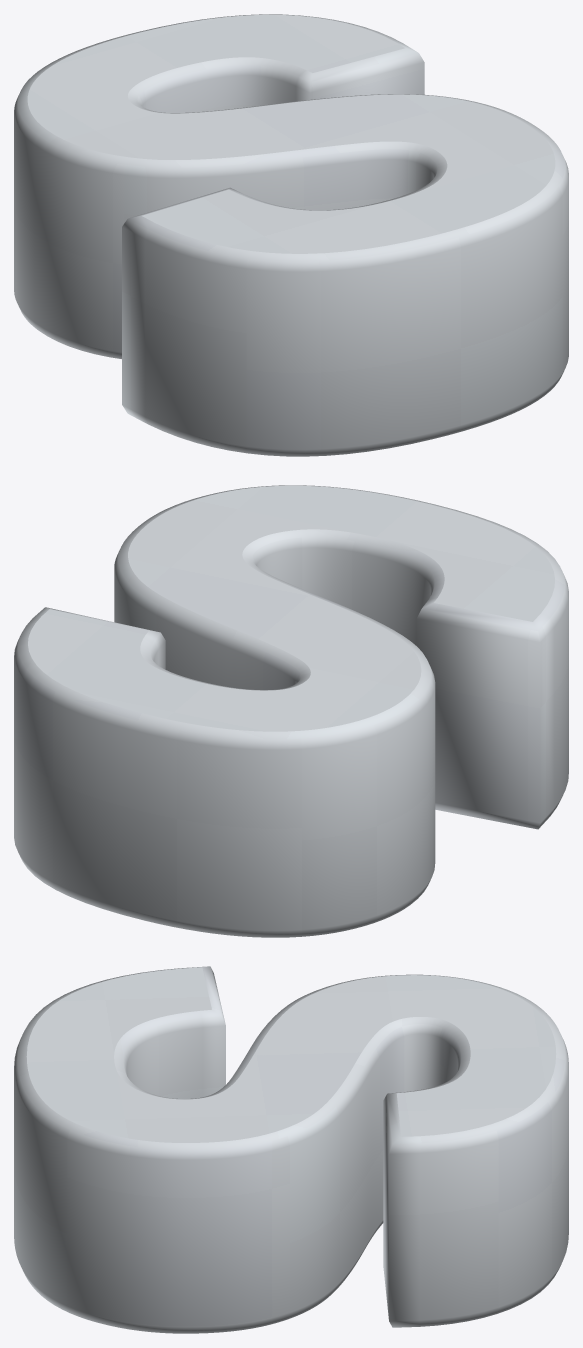
File: title_letter_08.obj
3 renders of one model, top to bottom at view 1: azimuth 30°, elevation 25°; view 2: azimuth 150°, elevation 25°; view 3: azimuth 270°, elevation 25°, orthographic. The views are drawn at different scales.
Parts seen in each view (by area): view 1: TitleLetter09_S; view 2: TitleLetter09_S; view 3: TitleLetter09_S.
Part boxes in pixels (bbox=[...]): TitleLetter09_S: bbox=[14, 14, 568, 456]; TitleLetter09_S: bbox=[14, 485, 568, 937]; TitleLetter09_S: bbox=[14, 966, 568, 1333].
Bounding box in the file's own units: 0.925 × 0.4376 × 1.16.
1 material, 1 textured.
